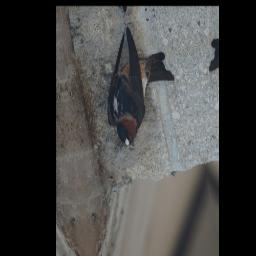Swallow: (94, 16, 183, 154)
